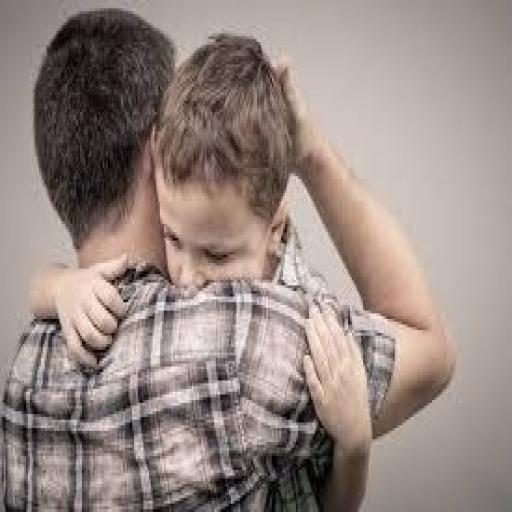hugging: (0, 6, 458, 509)
